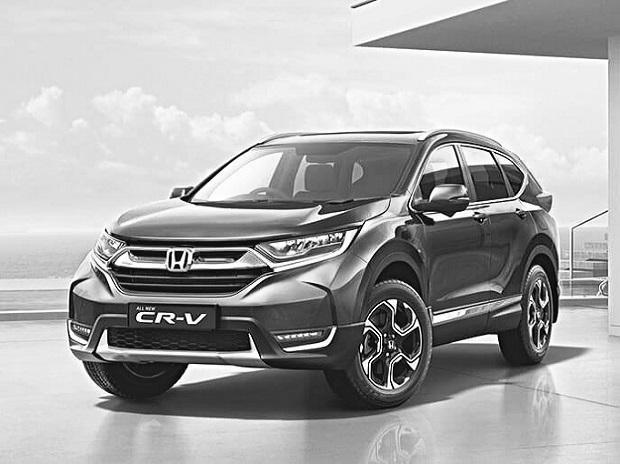Car hood: (104, 193, 396, 247)
Fender - -F-L-: (347, 188, 431, 307)
Fender - -R-L-: (517, 165, 566, 282)
Front bumper: (63, 255, 373, 371)
Headlight - -L-: (254, 224, 359, 274)
Headlight - -R-: (91, 228, 125, 269)
Passenger-s door - -F-L-: (417, 125, 495, 351)
Passenger-s door - -R-L-: (462, 119, 542, 352)
Rear light - -L-: (535, 185, 555, 214)
Side bumper - -L-: (424, 292, 532, 364)
Side mirror - -L-: (415, 183, 469, 221)
